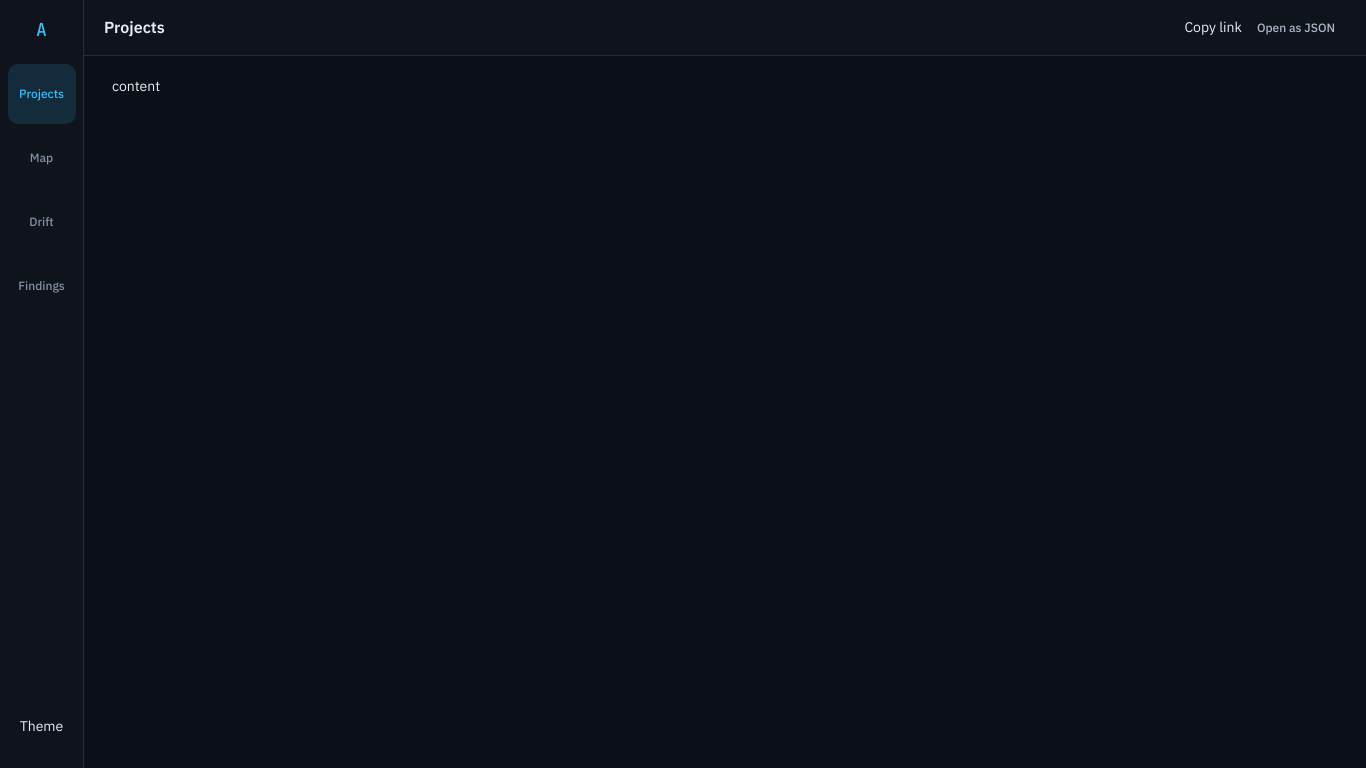
Test: Shell › toggles and remembers the theme
Click the button with aria-label "Switch to the light theme". click: (42, 726)
box: x1=8 y1=696 x2=76 y2=756
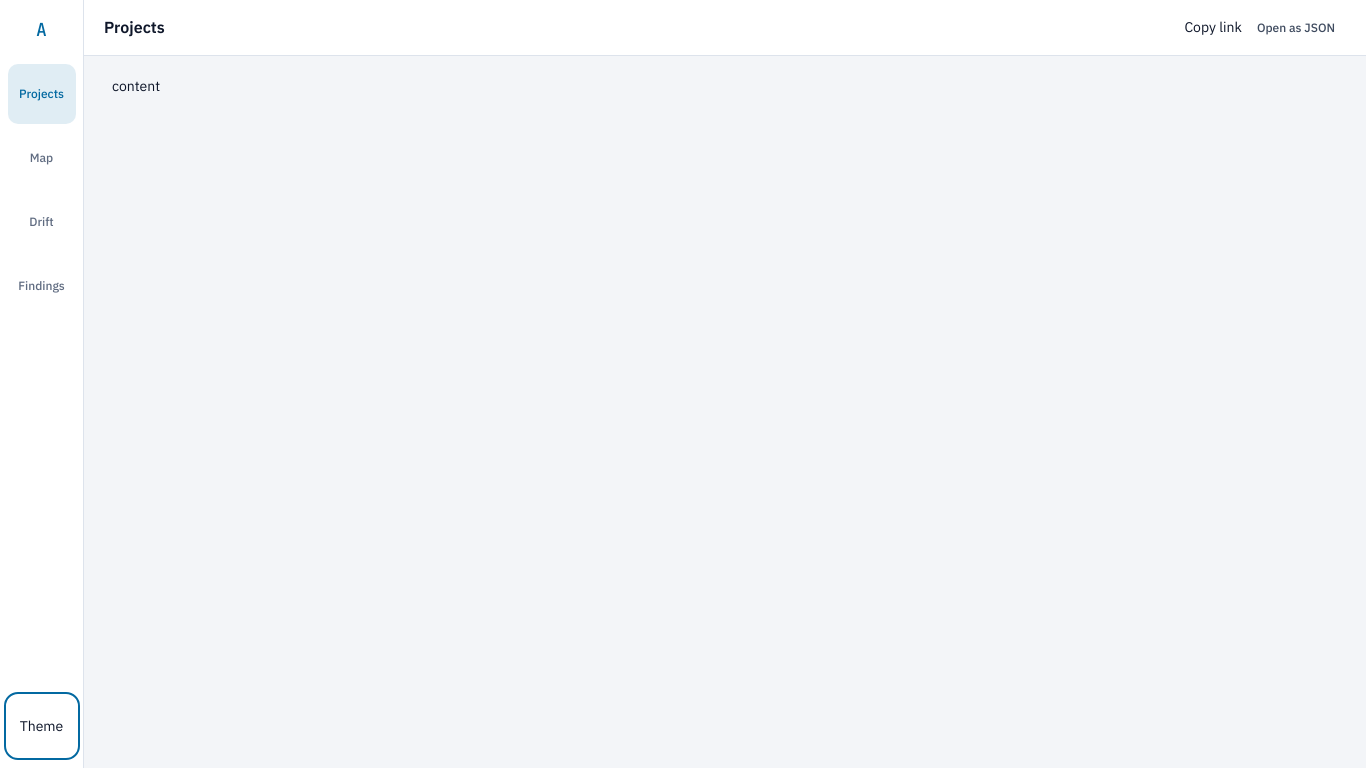
expect the button with aria-label "Switch to the dark theme" is shown: met, box x1=8 y1=696 x2=76 y2=756
